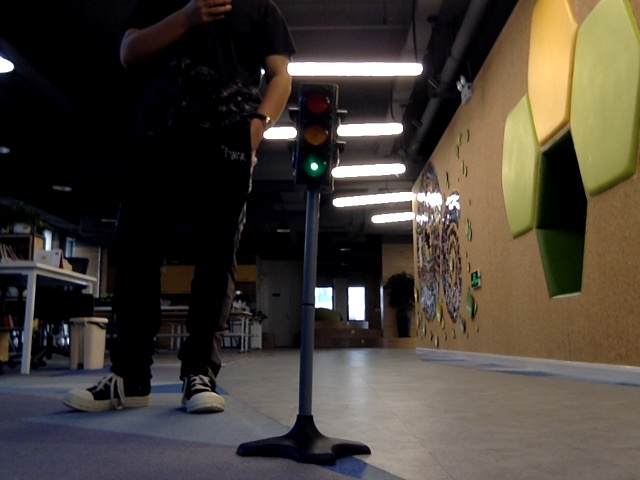green: (298, 91, 332, 183)
